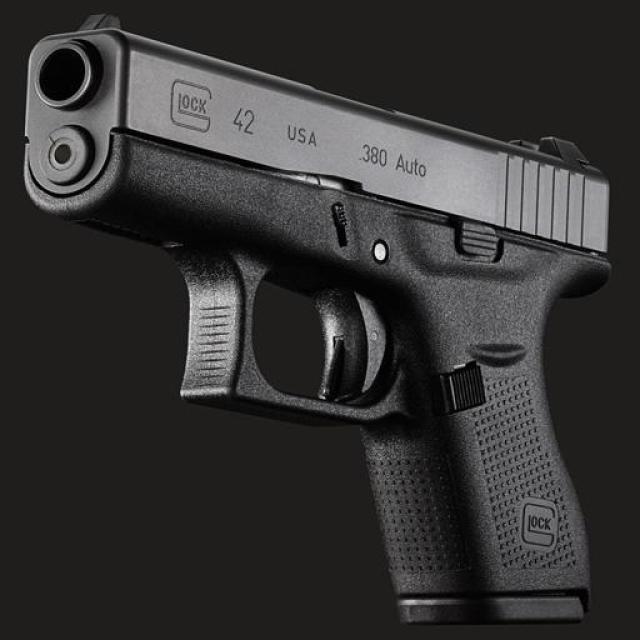pistol: (18, 10, 609, 622)
